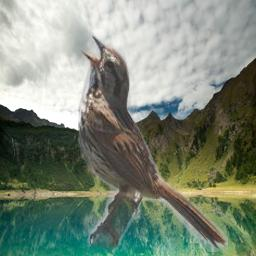Sparrow: (78, 32, 228, 252)
